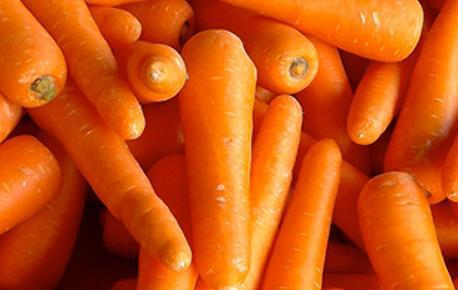carrot: (10, 5, 454, 286), (204, 19, 457, 172), (178, 30, 262, 288), (350, 168, 456, 290), (2, 0, 62, 115), (0, 134, 64, 236)
